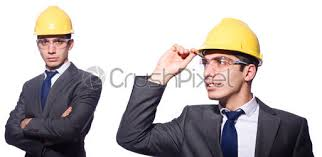Person_wearing_helmet: (192, 17, 264, 69), (29, 5, 74, 60)
